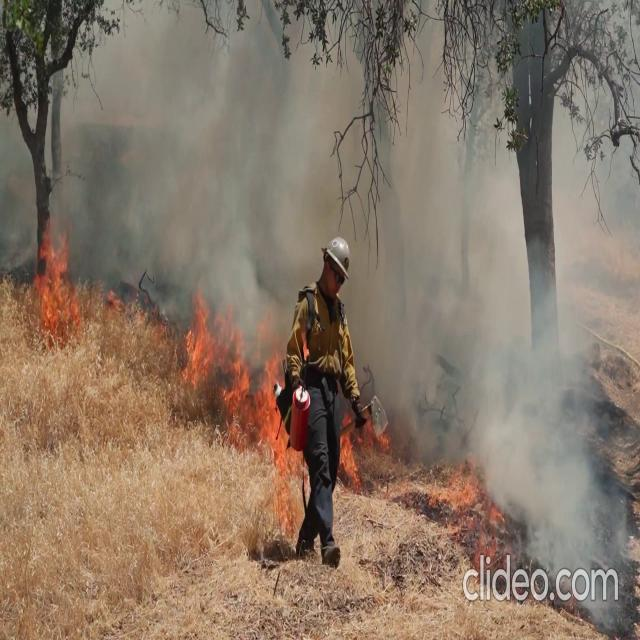Fire: (13, 222, 142, 329), (180, 292, 250, 410), (29, 219, 79, 328), (180, 292, 220, 388)
Smoke: (67, 21, 616, 422), (405, 132, 634, 590), (3, 18, 331, 300)
